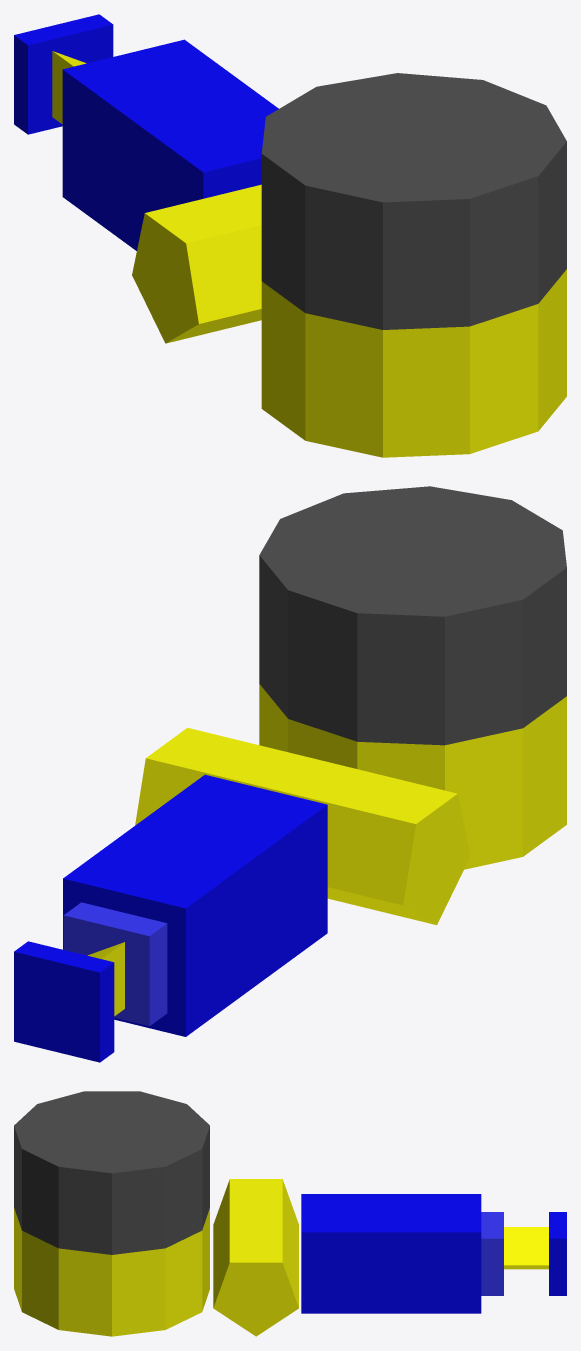
Rendered from kevin2_round.dae.
The picture shows the model from 3 angles, top to bottom: view 1: azimuth 30°, elevation 25°; view 2: azimuth 150°, elevation 25°; view 3: azimuth 270°, elevation 25°; orthographic projection. The views are drawn at different scales.
Visible parts, largest first — view 1: base_link, base_motor, extend_link1, lift_motor, wrist_plate, wrist_motor; view 2: base_link, extend_link1, lift_motor, base_motor, wrist_plate, extend_link2, wrist_motor; view 3: base_link, extend_link1, base_motor, lift_motor, wrist_motor, extend_link2, wrist_plate.
Boxes of the visible parts, x1,y1,x2,y2 form: base_link: [261, 73, 566, 329]; base_motor: [261, 269, 566, 457]; extend_link1: [62, 39, 278, 250]; lift_motor: [132, 184, 261, 343]; wrist_plate: [14, 14, 113, 134]; wrist_motor: [52, 51, 86, 124]; base_link: [259, 486, 566, 745]; extend_link1: [63, 774, 327, 1036]; lift_motor: [135, 727, 470, 924]; base_motor: [259, 684, 566, 869]; wrist_plate: [14, 941, 114, 1062]; extend_link2: [63, 902, 167, 1026]; wrist_motor: [87, 942, 124, 1016]; base_link: [14, 1091, 209, 1254]; extend_link1: [301, 1194, 481, 1313]; base_motor: [14, 1208, 209, 1336]; lift_motor: [213, 1179, 298, 1336]; wrist_motor: [504, 1227, 548, 1269]; extend_link2: [481, 1212, 503, 1295]; wrist_plate: [549, 1212, 566, 1295].
Size of what is drawn, in the model's own units: 0.22 by 0.6139 by 0.2.
